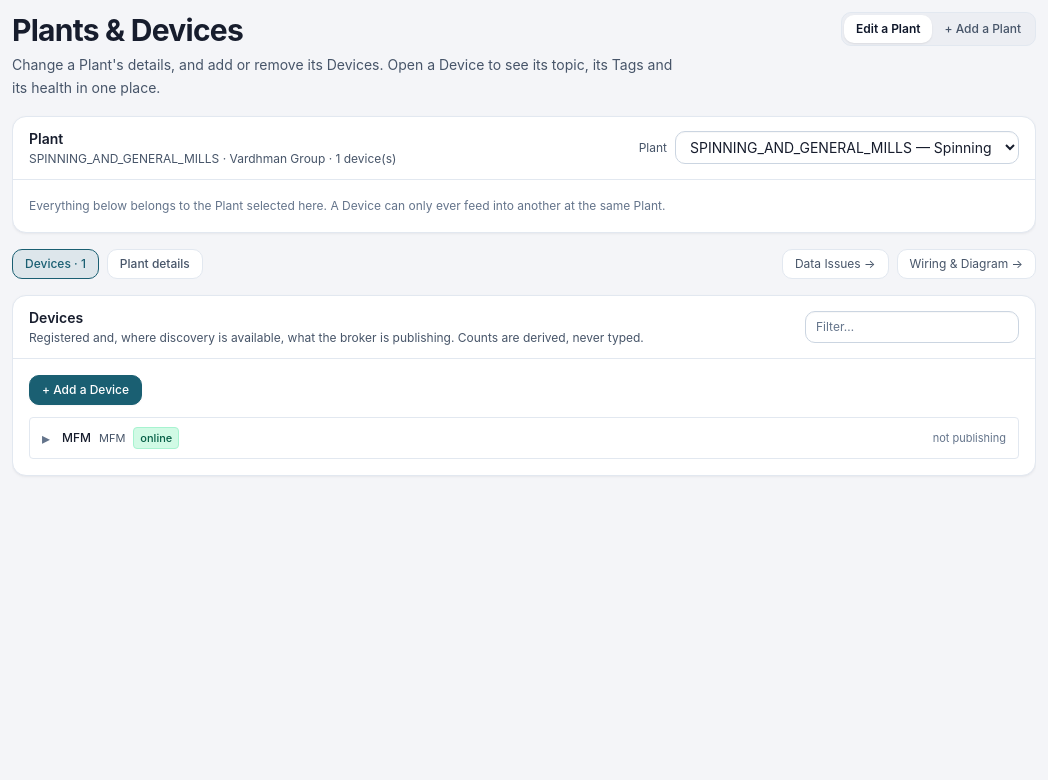
Scenario: Plants & Devices: an Inverter and its string topic › keeps the Readings when the second confirmation is declined
Click the button "▸ MFM MFM online not publishing" at {"x": 156, "y": 438}, box [30, 418, 1018, 458]
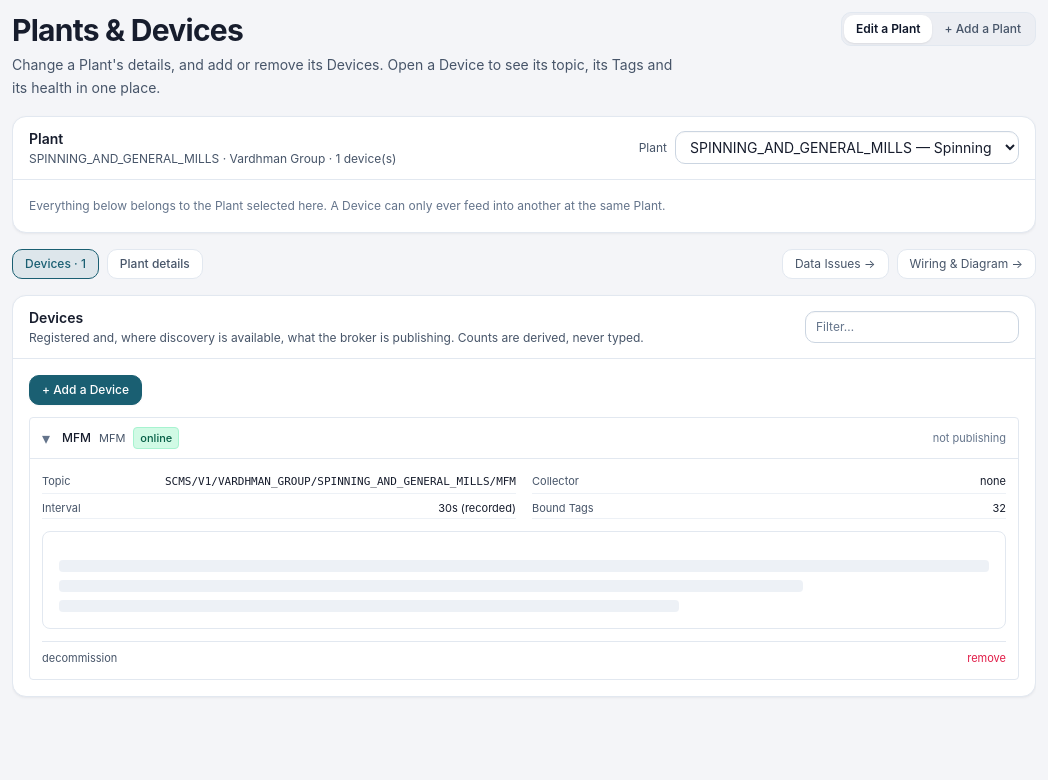
Click the button "remove" at {"x": 987, "y": 658}, box [967, 650, 1006, 666]
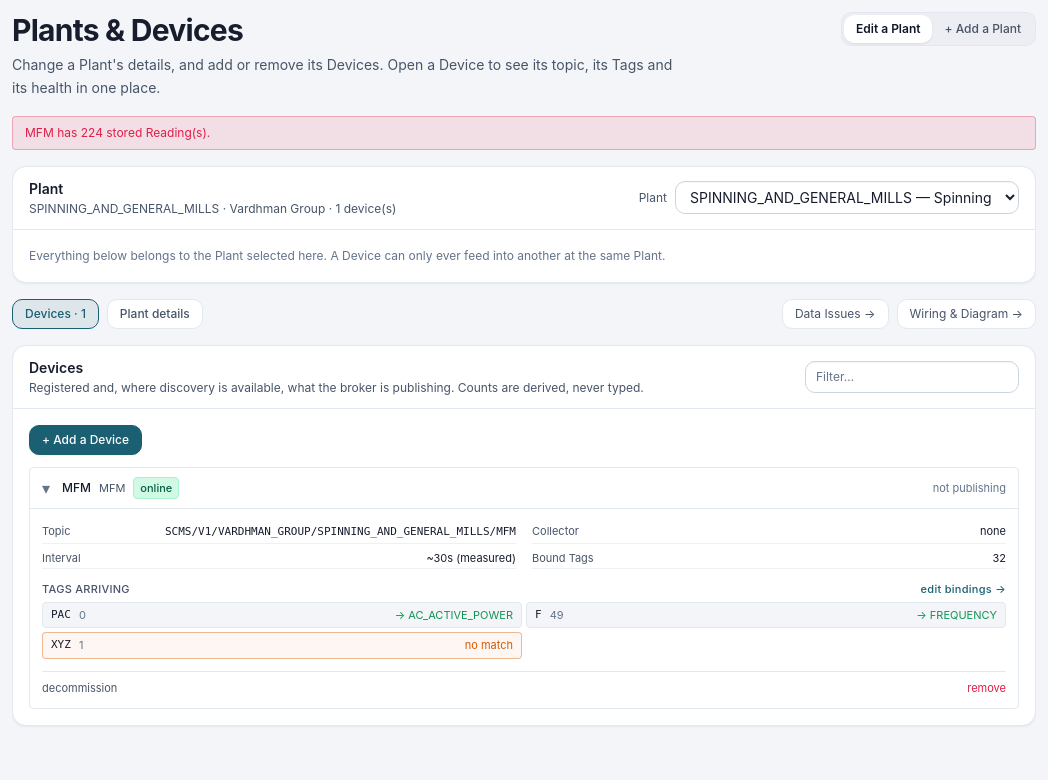
Check: the text "MFM has 224 stored Reading(s)." is shown, box [12, 116, 1036, 150]
